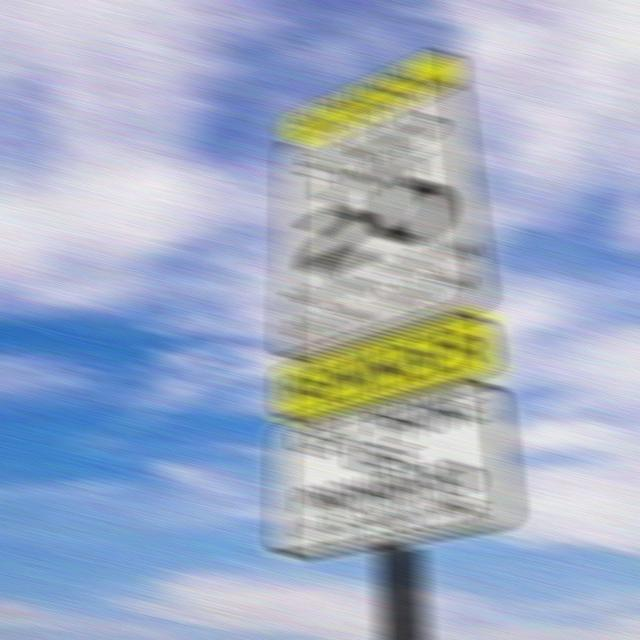speedLimit20: (271, 98, 477, 278)
